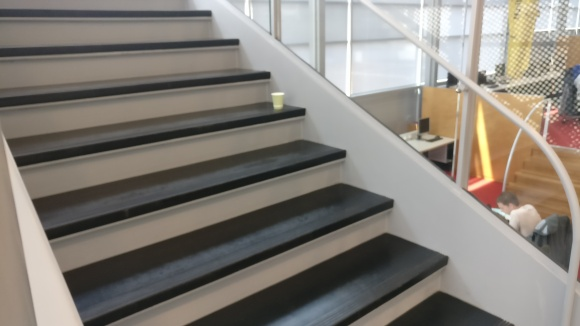cup: (270, 91, 285, 110)
